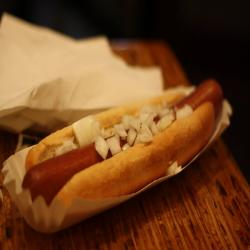hotdog: (7, 81, 233, 226)
